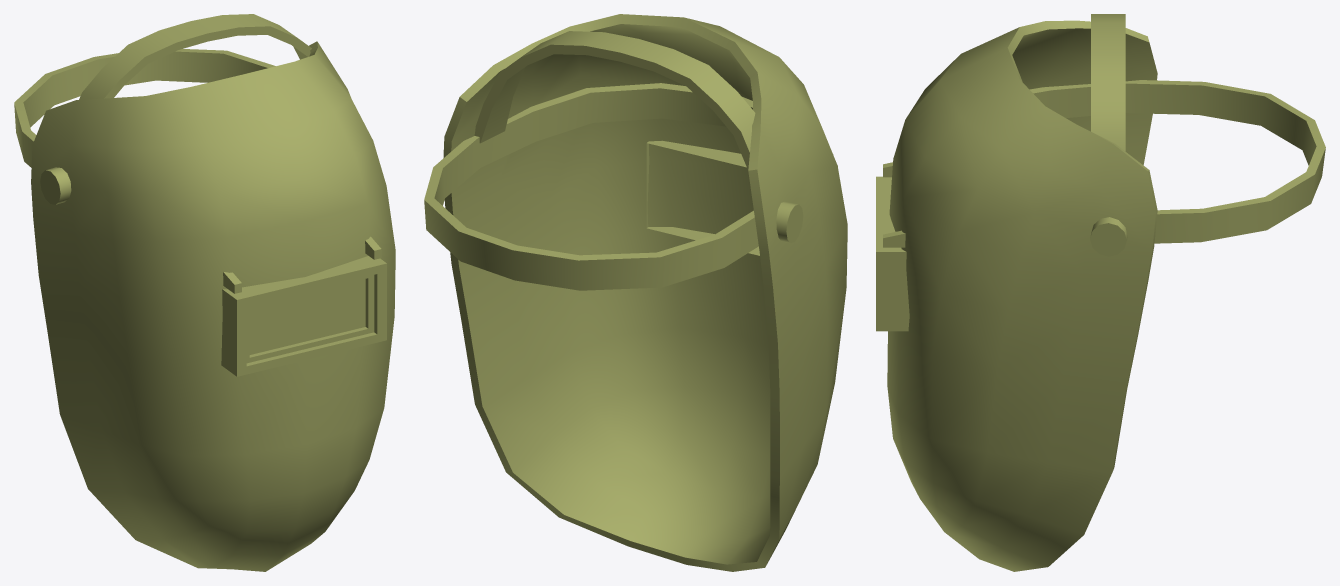
Rendered from seguranca-obj_mascarasolda.fbx.
3 views of the same model, side by side, from view 1: azimuth 30°, elevation 25°; view 2: azimuth 150°, elevation 25°; view 3: azimuth 270°, elevation 25° (orthographic). The views are drawn at different scales.
Visible parts, largest first — view 1: Mascara_de_solda; view 2: Mascara_de_solda; view 3: Mascara_de_solda.
Boxes of the visible parts, bbox=[...] form: Mascara_de_solda: bbox=[14, 14, 395, 571]; Mascara_de_solda: bbox=[424, 14, 847, 571]; Mascara_de_solda: bbox=[876, 14, 1325, 571].
Bounding box in the file's own units: 5.33 × 8.57 × 6.71.
